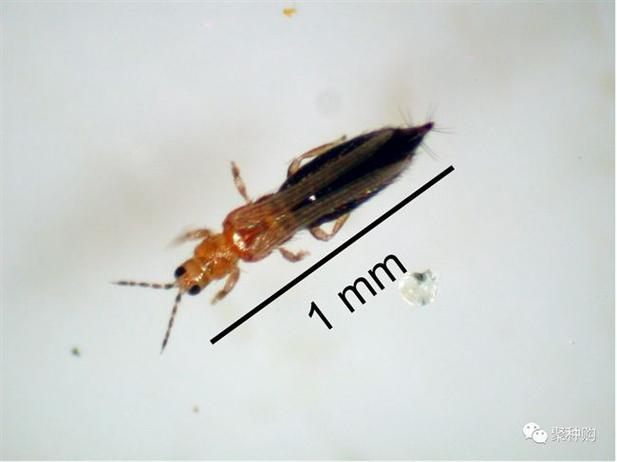Phlaeothripidae: (108, 103, 458, 354)
